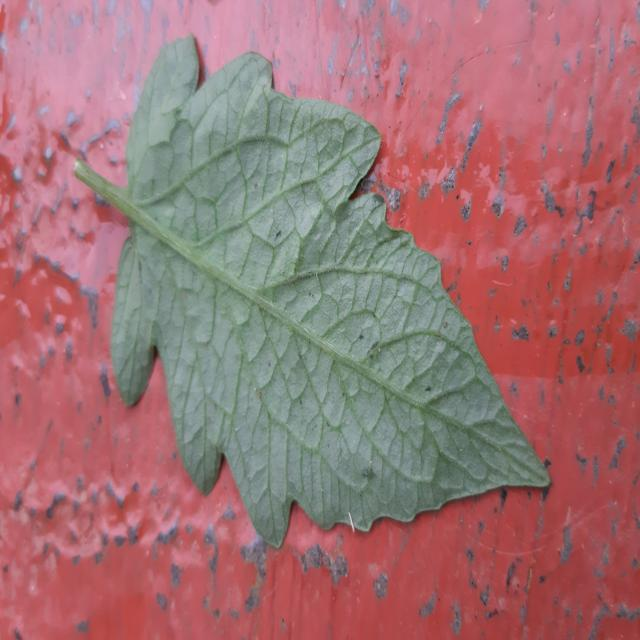tomato: (75, 36, 549, 547)
